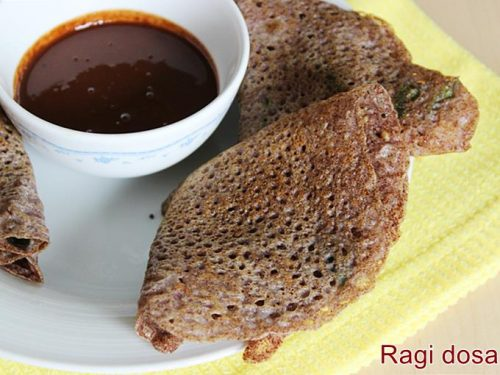dosa: (138, 89, 410, 370)
